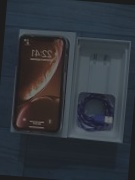iphone: (71, 33, 122, 132)
